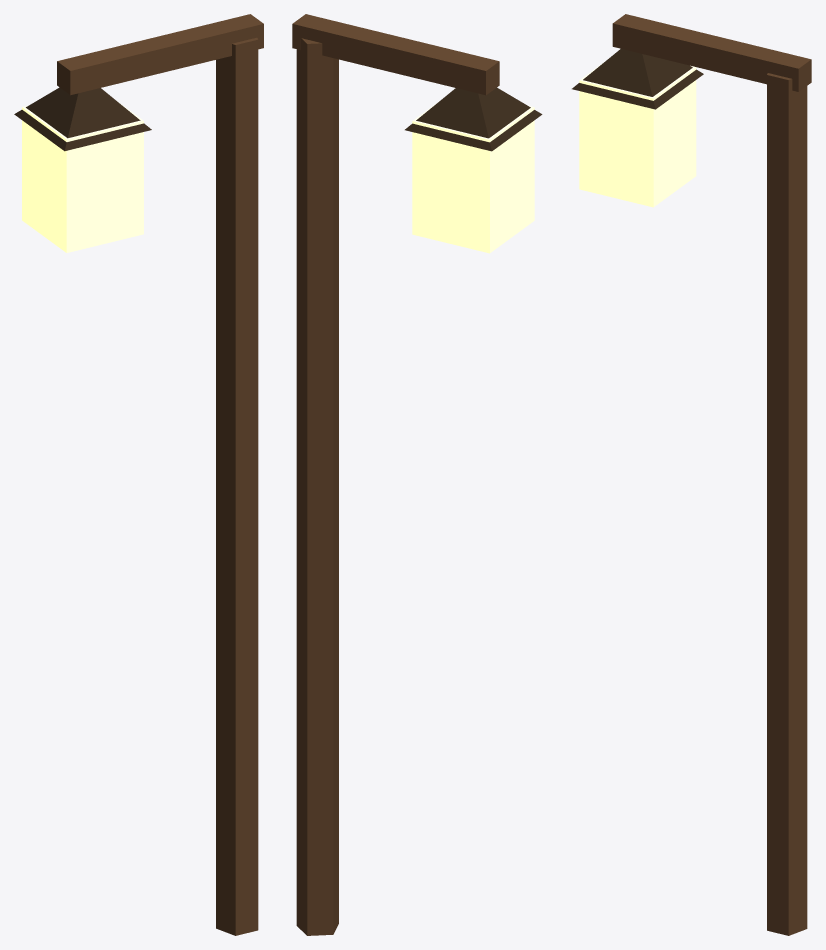
File: lantern.fbx
3 views of the same model, side by side, from view 1: azimuth 30°, elevation 25°; view 2: azimuth 150°, elevation 25°; view 3: azimuth 330°, elevation 25° (orthographic). The views are drawn at different scales.
Parts seen in each view (by area): view 1: lantern; view 2: lantern; view 3: lantern.
Boxes of the visible parts, x1,y1,x2,y2 form: lantern: [14, 14, 263, 935]; lantern: [292, 14, 542, 935]; lantern: [572, 14, 811, 935].
Size of the model in its own units: 1.13 by 4.46 by 0.4525.
